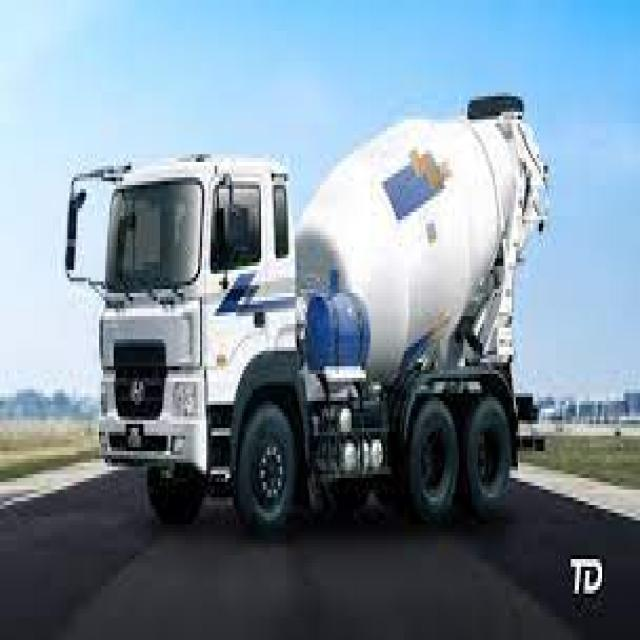Mixer Truck: (62, 86, 551, 544)
